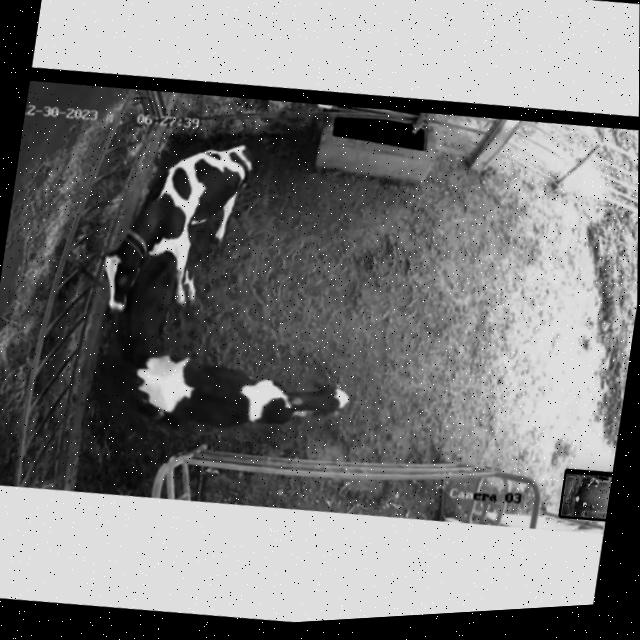propping: (92, 228, 174, 332)
